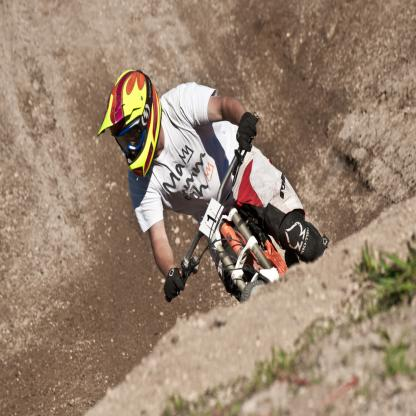Helmet: (104, 73, 159, 174)
